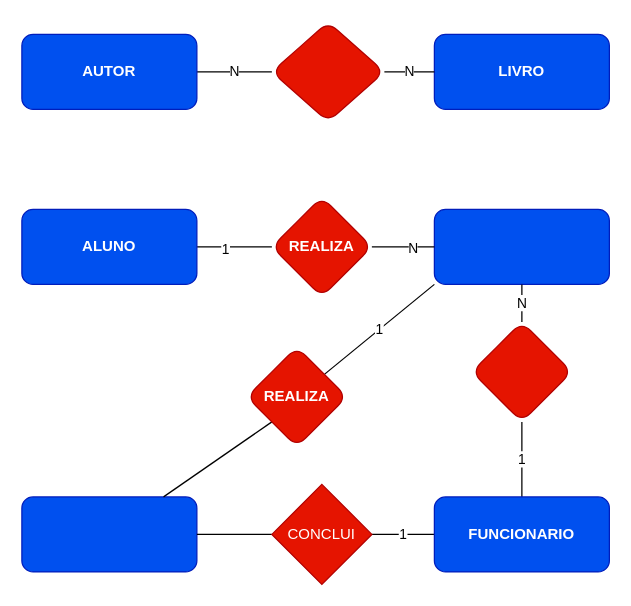
Some shapes in this 631 by 606 pixel diagram are drawn without their labels. Here are the shapes that lost their labels. From the top down, the box of each, then its label:
(271, 21, 384, 122): ESCREVE
(433, 208, 609, 284): EMPRESTIMO
(471, 321, 572, 422): EFETUA
(21, 496, 197, 572): DEVOLUCAO
